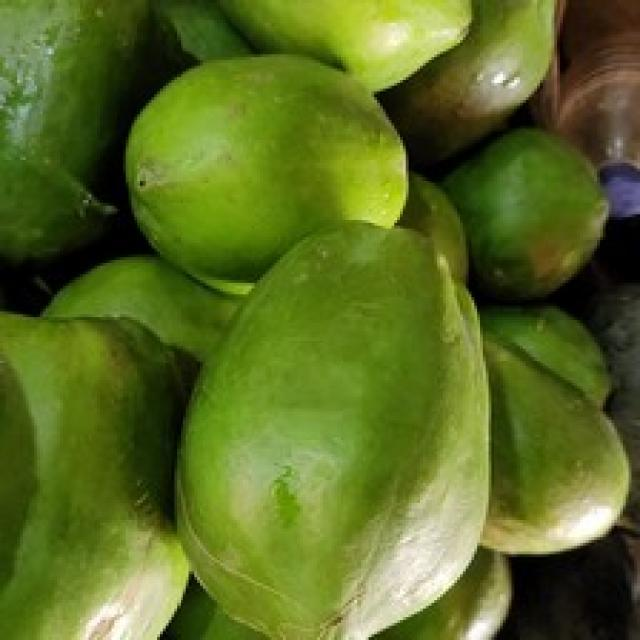Pepaya unrippen: (179, 209, 501, 638), (106, 56, 415, 270)
